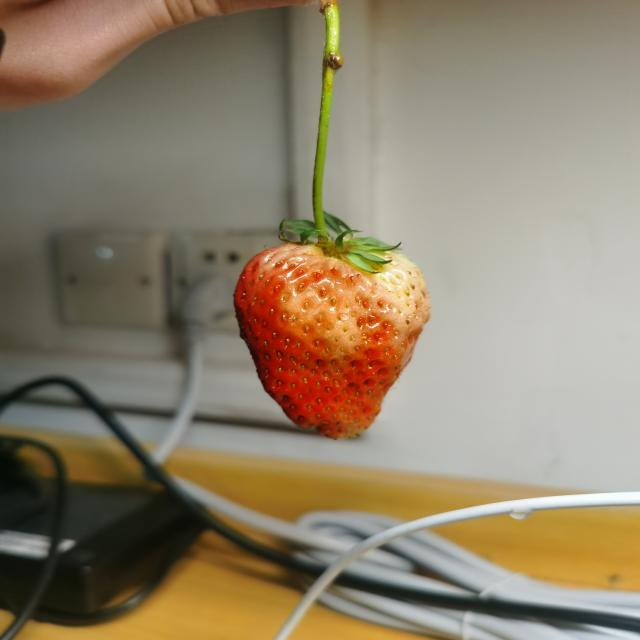stem: (313, 137, 331, 246)
strawberry: (233, 238, 431, 439)
